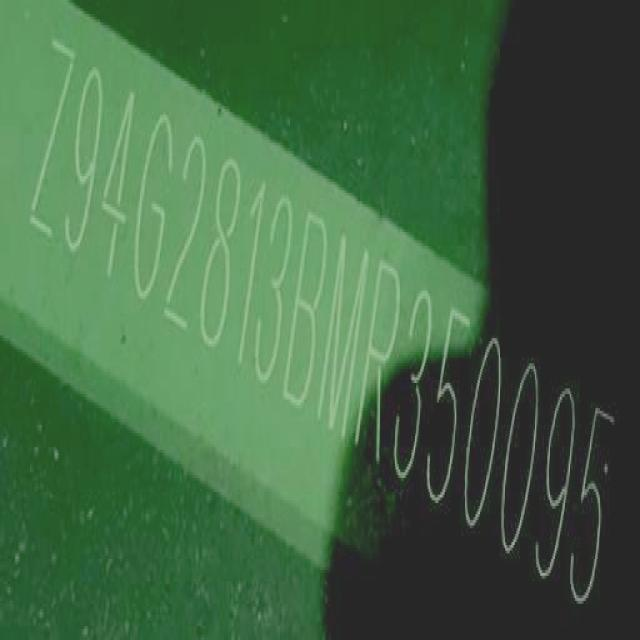0: (490, 348, 547, 569), (455, 319, 510, 541)
1: (231, 173, 270, 380)
2: (158, 126, 213, 344)
3: (388, 279, 440, 495), (248, 187, 299, 399)
4: (91, 80, 146, 289)
5: (561, 390, 619, 620), (420, 297, 475, 517)
8: (194, 147, 247, 371)
9: (527, 373, 585, 589), (57, 54, 111, 267)
B: (277, 204, 332, 424)
G: (119, 100, 182, 316)
M: (315, 227, 376, 454)
R: (353, 256, 406, 473)
Z: (22, 31, 80, 253)
